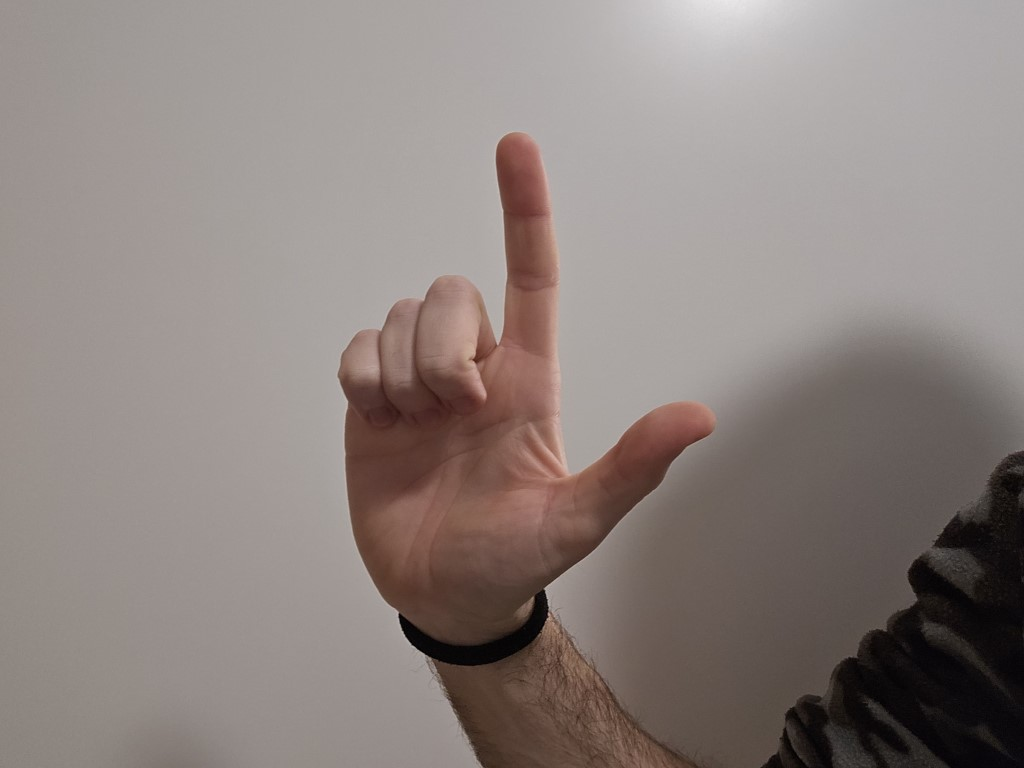l: (271, 121, 743, 624)
